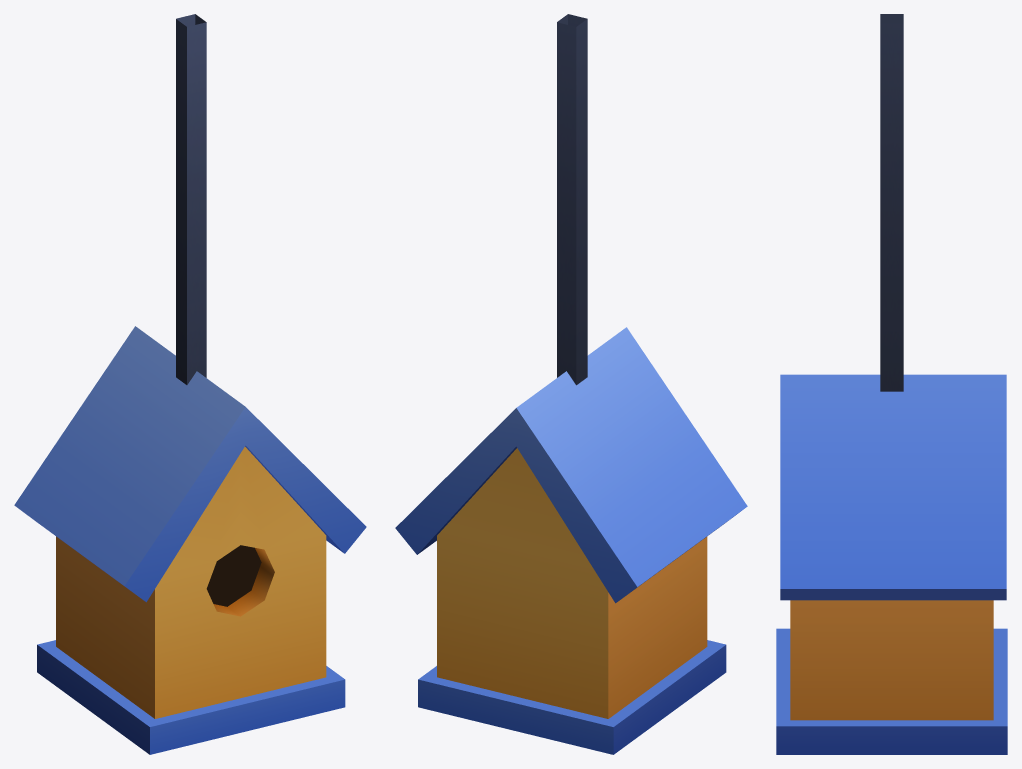
Rendered from BirdHouse_02.fbx.
The picture shows the model from 3 angles, left to right: view 1: azimuth 30°, elevation 25°; view 2: azimuth 150°, elevation 25°; view 3: azimuth 270°, elevation 25°; orthographic projection. The views are drawn at different scales.
Parts seen in each view (by area): view 1: BirdHouse_02; view 2: BirdHouse_02; view 3: BirdHouse_02.
Part boxes in pixels (<box>): BirdHouse_02: <box>14,14,366,754</box>; BirdHouse_02: <box>395,14,747,754</box>; BirdHouse_02: <box>776,14,1007,754</box>.
Bounding box in the file's own units: 52.78 × 139 × 42.57.
Materials: 1 (1 with a texture image).
